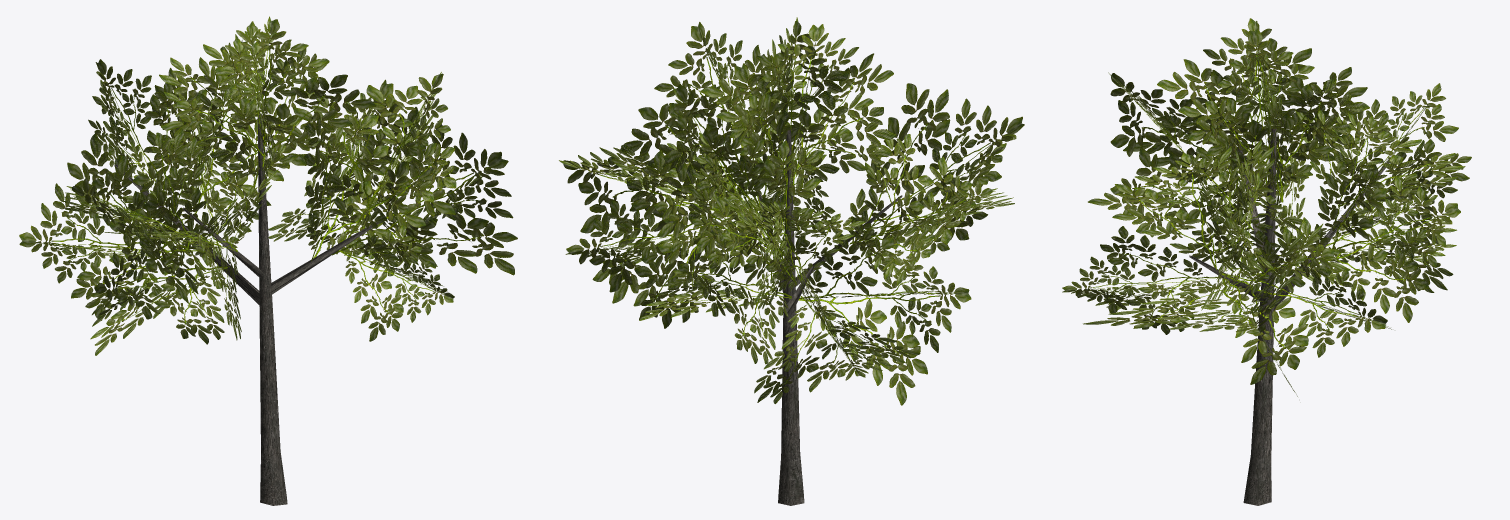
The model's file is Tree-B-01.fbx.
The picture shows the model from 3 angles, left to right: view 1: azimuth 30°, elevation 25°; view 2: azimuth 150°, elevation 25°; view 3: azimuth 270°, elevation 25°; orthographic projection. The views are drawn at different scales.
Visible parts, largest first — view 1: Tree-B-01; view 2: Tree-B-01; view 3: Tree-B-01.
Boxes of the visible parts, x1,y1,x2,y2 form: Tree-B-01: (19,16,517,505); Tree-B-01: (559,17,1024,505); Tree-B-01: (1062,18,1471,505).
Size of the model in its own units: 1037 by 1089 by 913.
